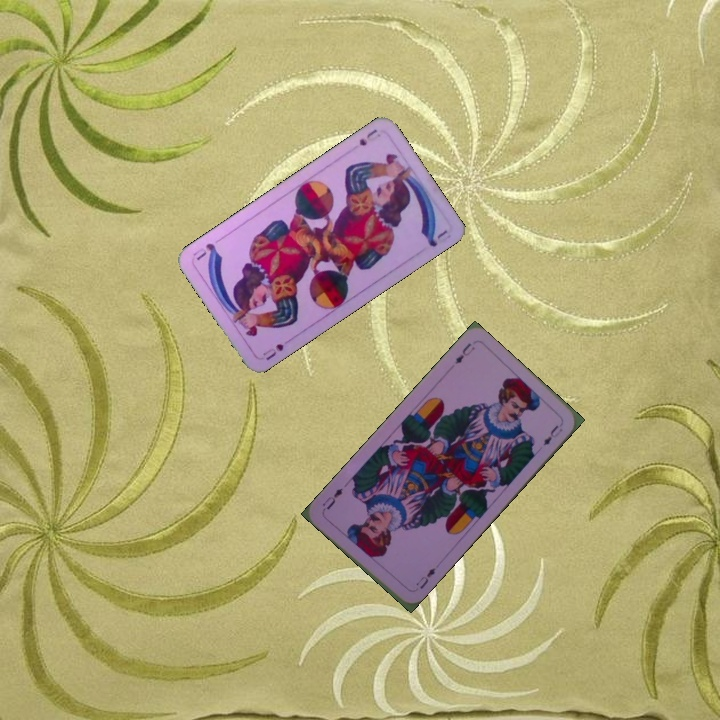EU: (412, 563, 438, 592), (451, 339, 477, 367)
SU: (258, 334, 293, 363), (355, 125, 379, 148)
